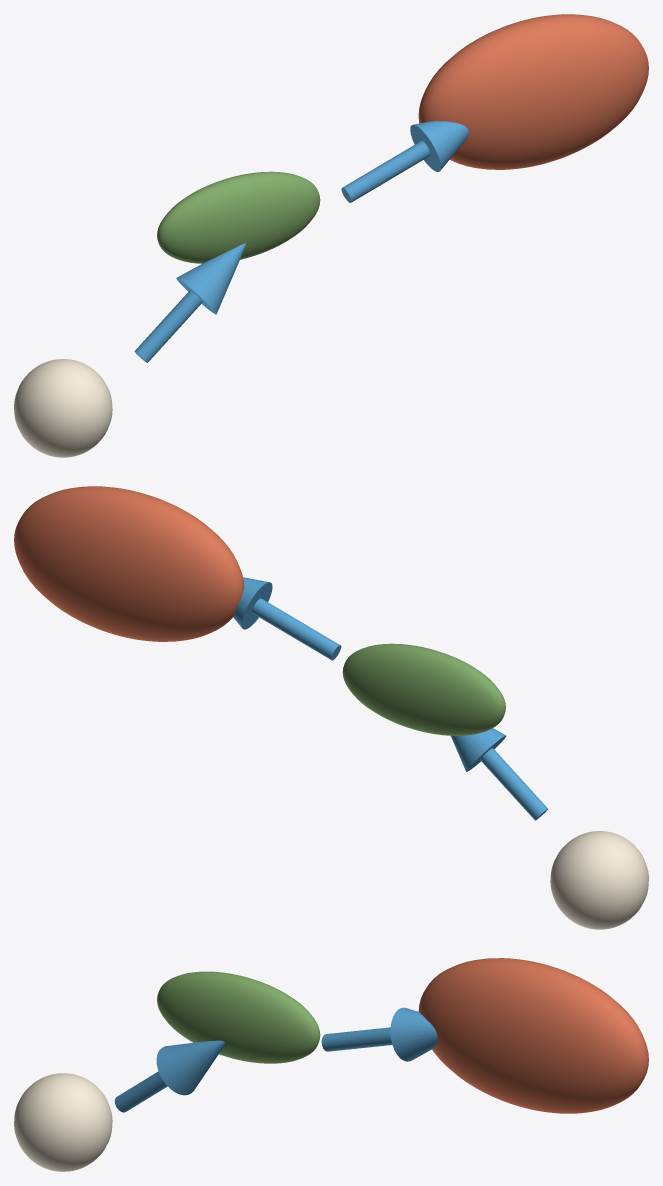
Rendered from biology-animals-life-cycle.glb.
The picture shows the model from 3 angles, top to bottom: view 1: azimuth 30°, elevation 25°; view 2: azimuth 150°, elevation 25°; view 3: azimuth 330°, elevation 25°; orthographic projection.
Parts seen in each view (by area): view 1: adult-stage, larva-young-stage, egg-stage, stage-progression-a-head, stage-progression-b-head, stage-progression-b-shaft, stage-progression-a-shaft; view 2: adult-stage, larva-young-stage, egg-stage, stage-progression-b-shaft, stage-progression-a-shaft, stage-progression-a-head, stage-progression-b-head; view 3: adult-stage, larva-young-stage, egg-stage, stage-progression-a-head, stage-progression-b-head, stage-progression-b-shaft, stage-progression-a-shaft.
Part boxes in pixels (left/top/right/bottom): adult-stage: left=418, top=14, right=648, bottom=169; larva-young-stage: left=157, top=171, right=320, bottom=263; egg-stage: left=14, top=359, right=112, bottom=457; stage-progression-a-head: left=176, top=243, right=246, bottom=314; stage-progression-b-head: left=410, top=121, right=468, bottom=171; stage-progression-b-shaft: left=341, top=140, right=430, bottom=202; stage-progression-a-shaft: left=134, top=290, right=202, bottom=362; adult-stage: left=14, top=486, right=244, bottom=641; larva-young-stage: left=342, top=643, right=505, bottom=735; egg-stage: left=550, top=831, right=648, bottom=929; stage-progression-b-shaft: left=252, top=598, right=341, bottom=660; stage-progression-a-shaft: left=480, top=748, right=547, bottom=820; stage-progression-a-head: left=451, top=728, right=506, bottom=771; stage-progression-b-head: left=233, top=577, right=272, bottom=629; adult-stage: left=418, top=958, right=648, bottom=1113; larva-young-stage: left=157, top=971, right=320, bottom=1063; egg-stage: left=14, top=1073, right=112, bottom=1171; stage-progression-a-head: left=156, top=1040, right=224, bottom=1095; stage-progression-b-head: left=390, top=1007, right=437, bottom=1061; stage-progression-b-shaft: left=321, top=1027, right=392, bottom=1051; stage-progression-a-shaft: left=114, top=1071, right=167, bottom=1112.
Size of what is drawn, in the model's own units: 1.46 by 0.7084 by 0.2.
